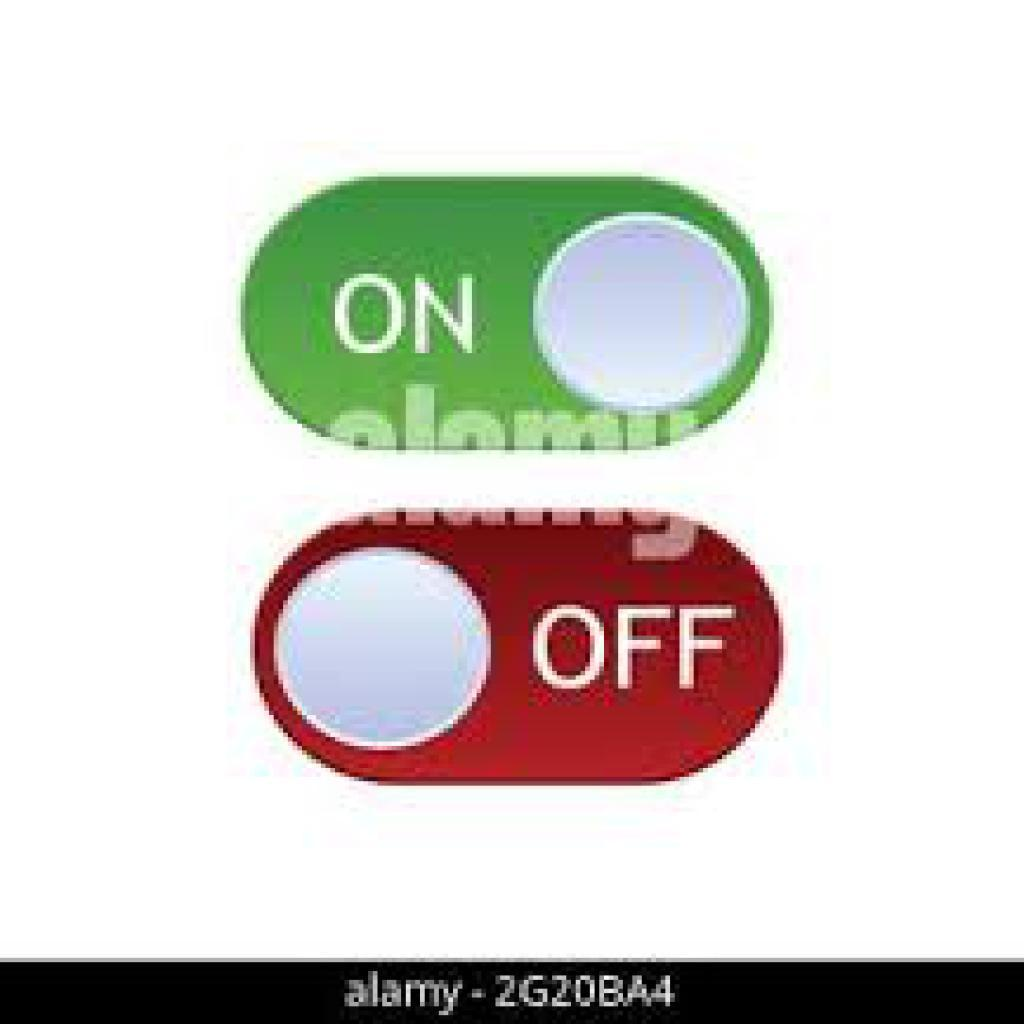switch: (251, 512, 787, 787), (244, 177, 775, 450)
